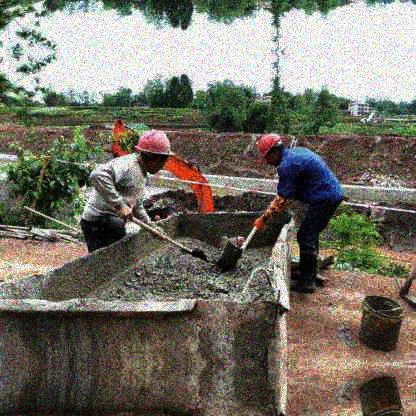helmet: (134, 130, 173, 174), (255, 135, 284, 169)
